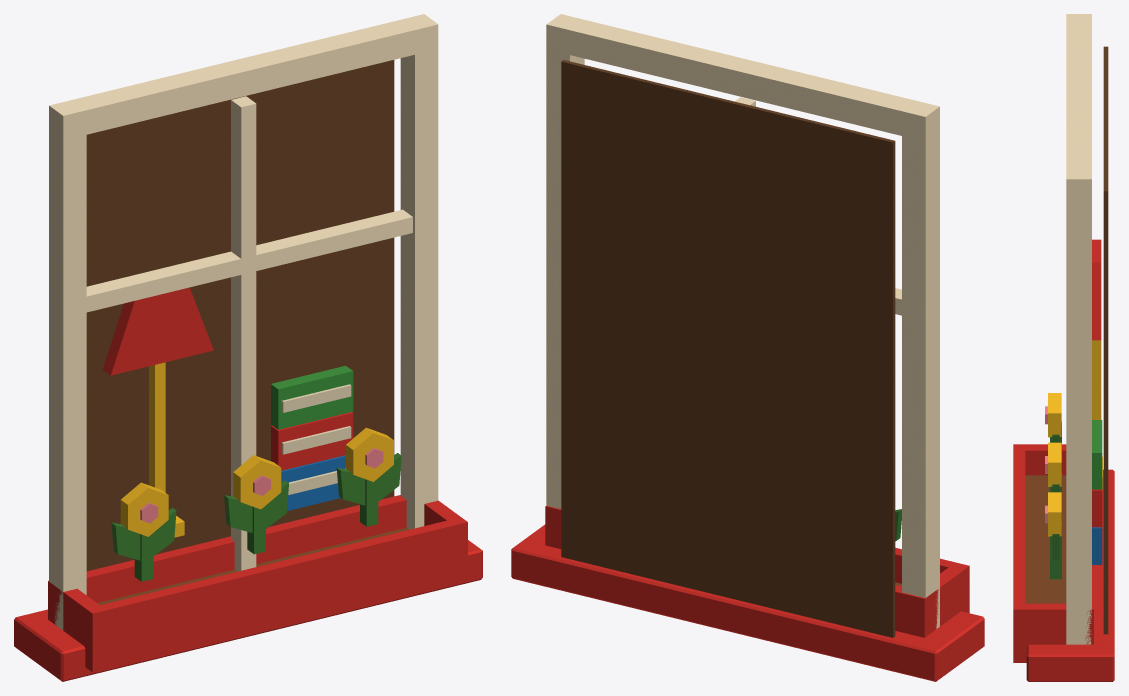
Rendered from window-square.fbx.
The picture shows the model from 3 angles, left to right: view 1: azimuth 30°, elevation 25°; view 2: azimuth 150°, elevation 25°; view 3: azimuth 270°, elevation 25°; orthographic projection. The views are drawn at different scales.
Parts seen in each view (by area): view 1: window-square; view 2: window-square; view 3: window-square.
Boxes of the visible parts, x1=… form: window-square: x1=14, y1=14, x2=482, y2=681; window-square: x1=511, y1=14, x2=984, y2=681; window-square: x1=1013, y1=14, x2=1114, y2=681.
Size of the model in its own units: 1800 by 2223 by 415.
1 material, 1 textured.
